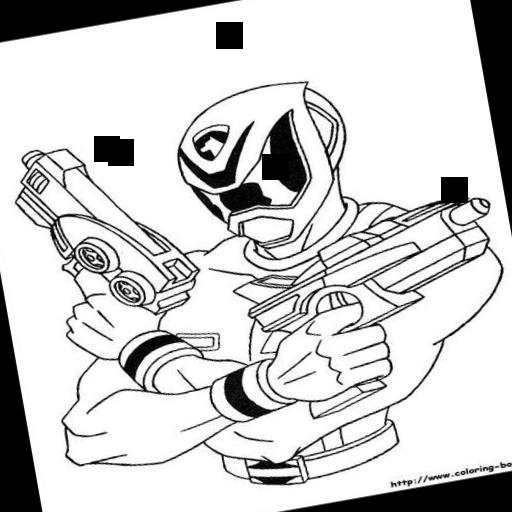Handgun: (228, 186, 512, 429), (0, 122, 208, 342)
